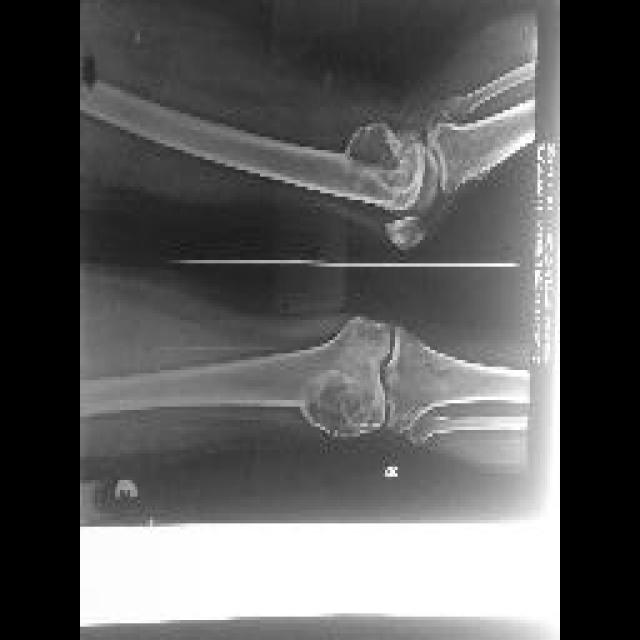bone-cancer: (345, 113, 424, 200), (301, 368, 390, 438)
